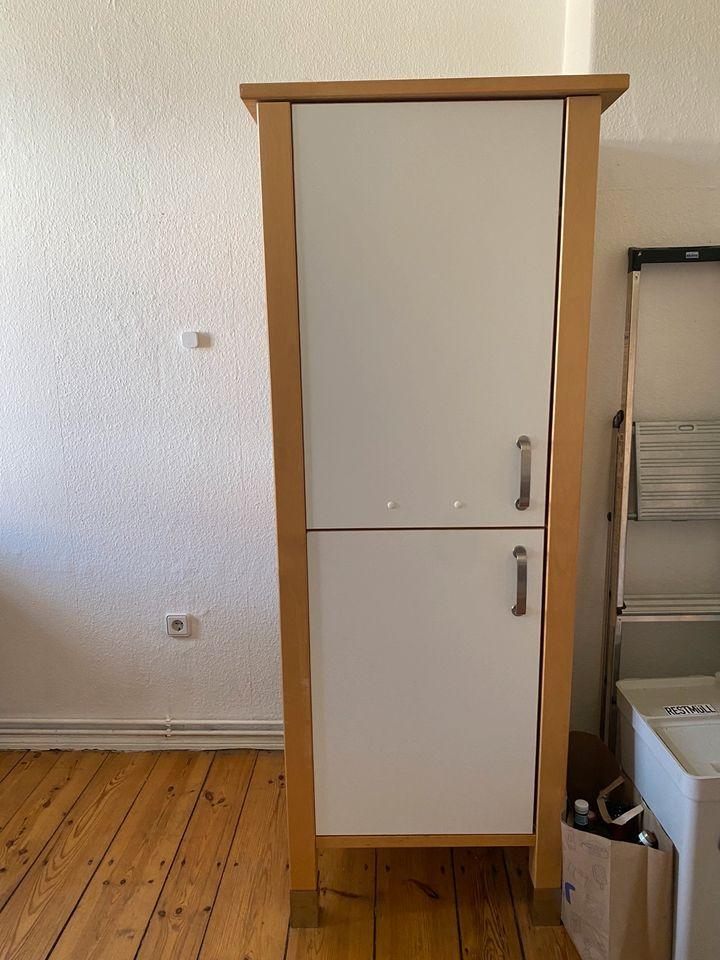cabinet_door: (309, 100, 558, 519), (310, 524, 541, 839)
handle: (511, 430, 535, 516), (509, 540, 531, 623)
